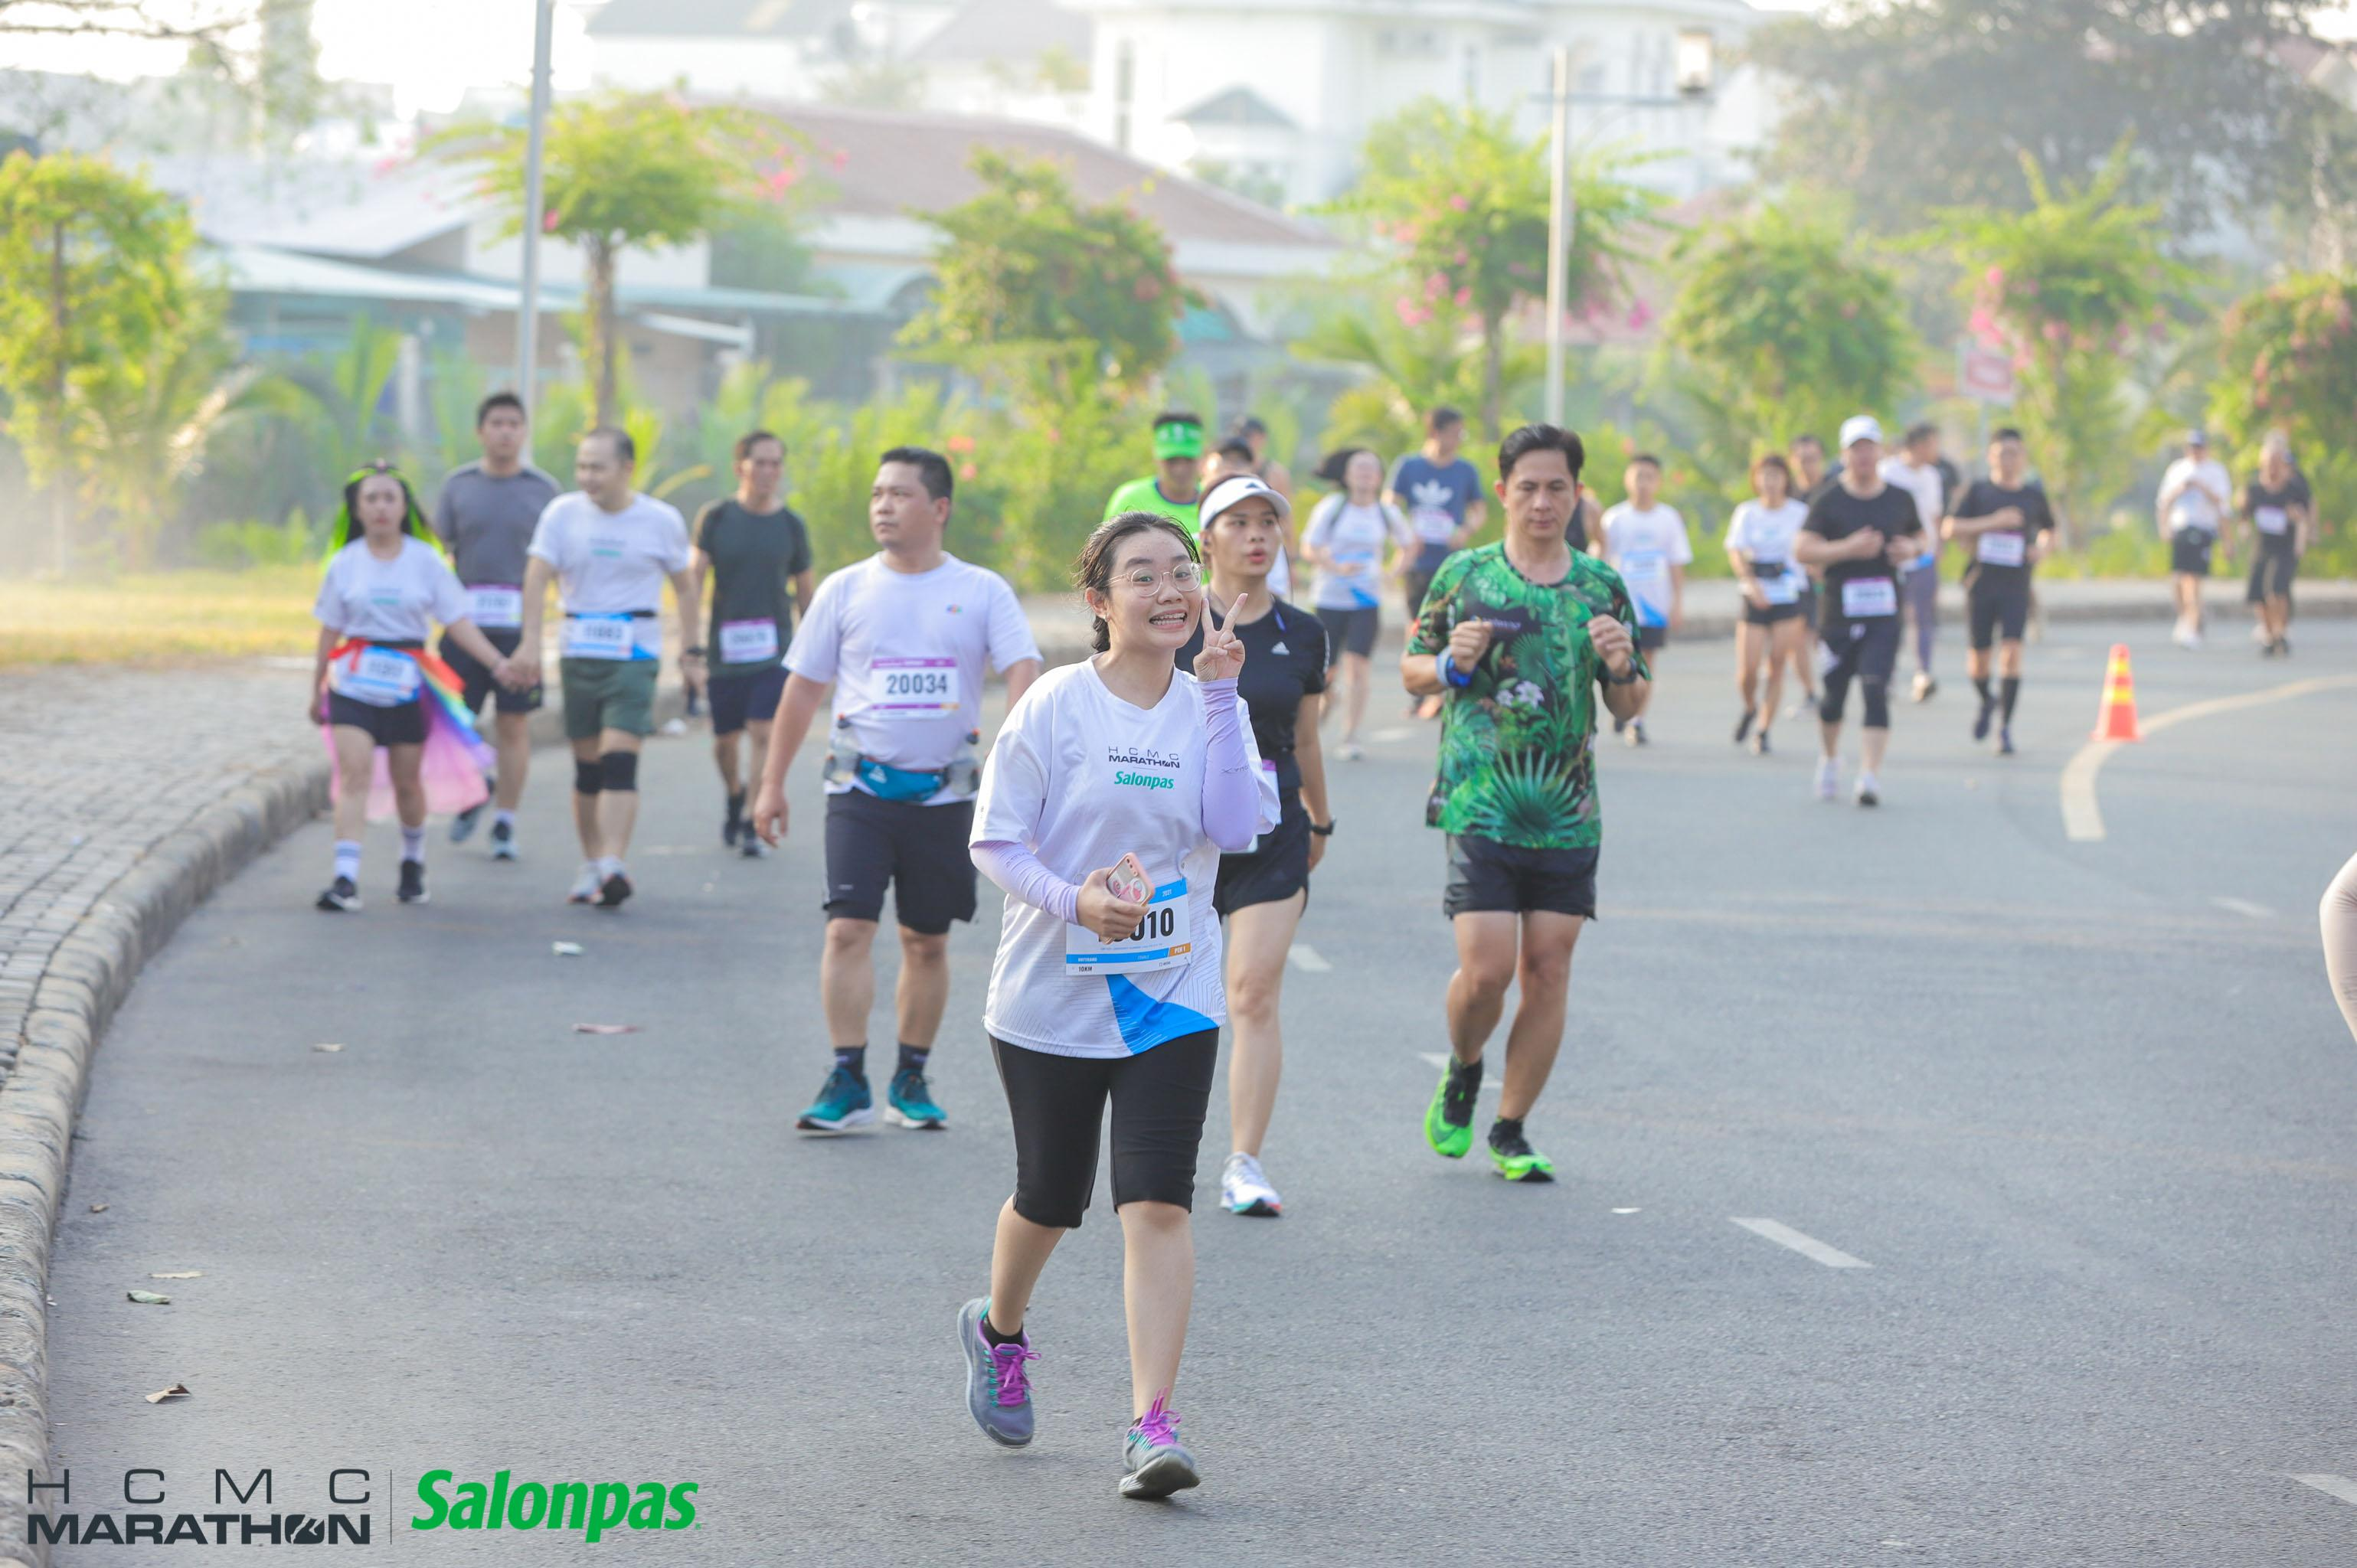bib: (1066, 887, 1193, 975), (873, 661, 959, 719), (570, 614, 632, 661), (353, 647, 411, 691), (464, 584, 520, 628), (719, 621, 779, 661), (1844, 579, 1897, 616), (1977, 528, 2025, 567)
